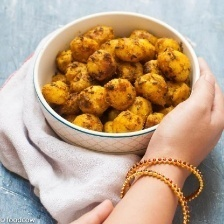sabzi: (43, 15, 198, 139)
